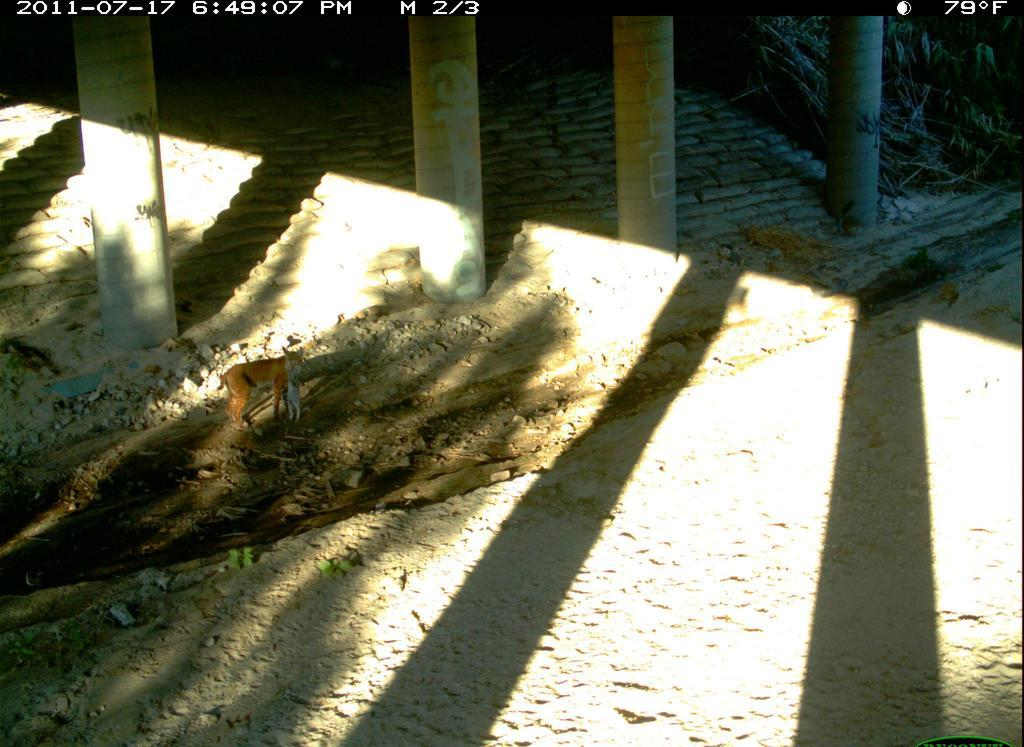bobcat: (423, 679, 624, 747)
rabbit: (567, 724, 611, 747)
